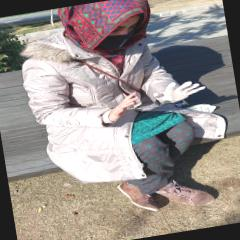gloved: (150, 76, 206, 106)
not-gloved: (104, 89, 142, 123)
